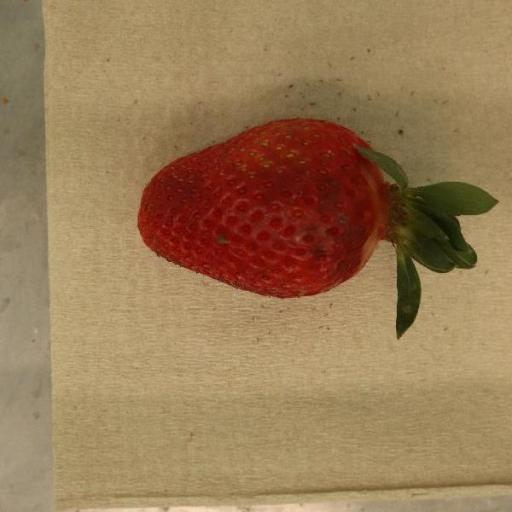Strawberry: (136, 118, 499, 340)
